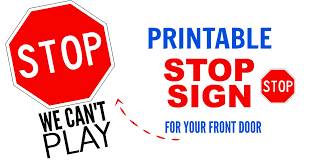SS: (5, 4, 118, 105), (259, 67, 295, 107)
